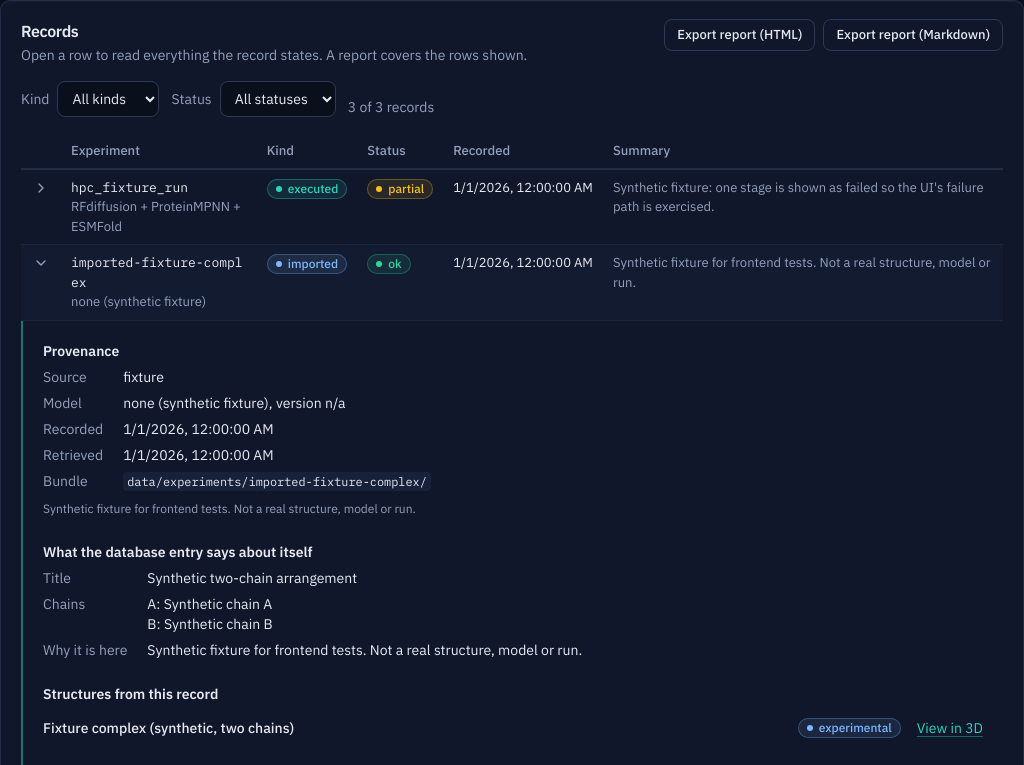
ExperimentHistory › keeps a record opened by a link on screen even when the filters would hide it
Select "Executed" in the dropdown named "Filter by kind" at {"x": 108, "y": 99}, box [58,81,160,117]
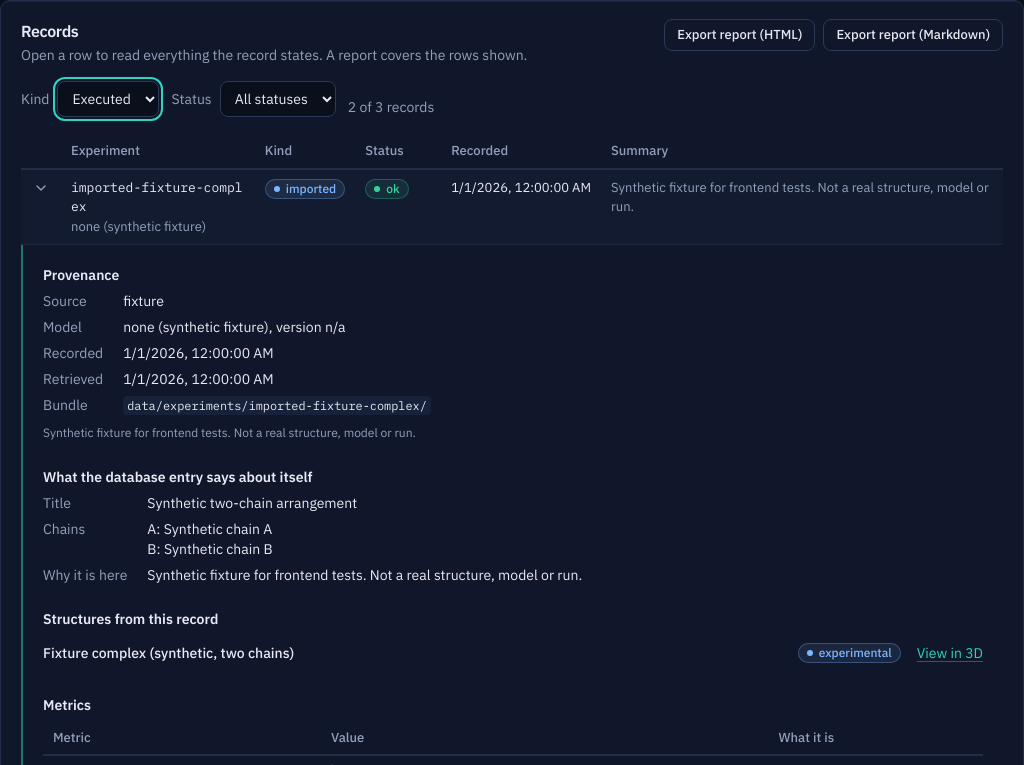
Click the button named "Hide details of imported-fixture-complex" at {"x": 41, "y": 188}, box [31,178,51,198]
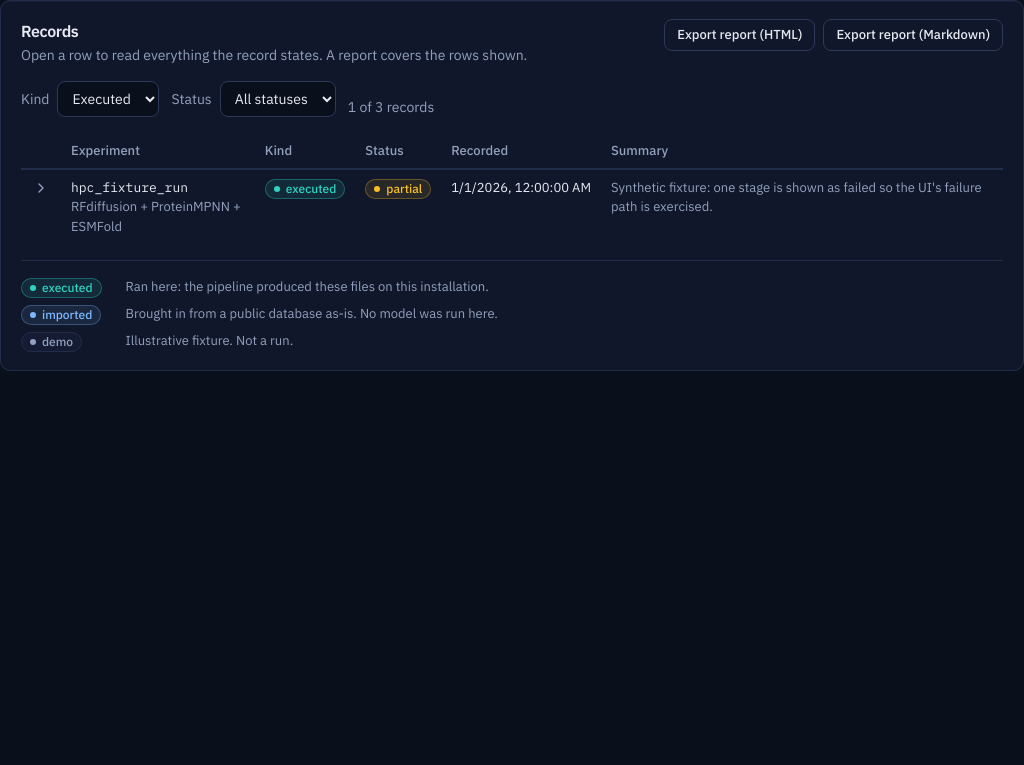
Check: the button "imported-fixture-complex" is gone
